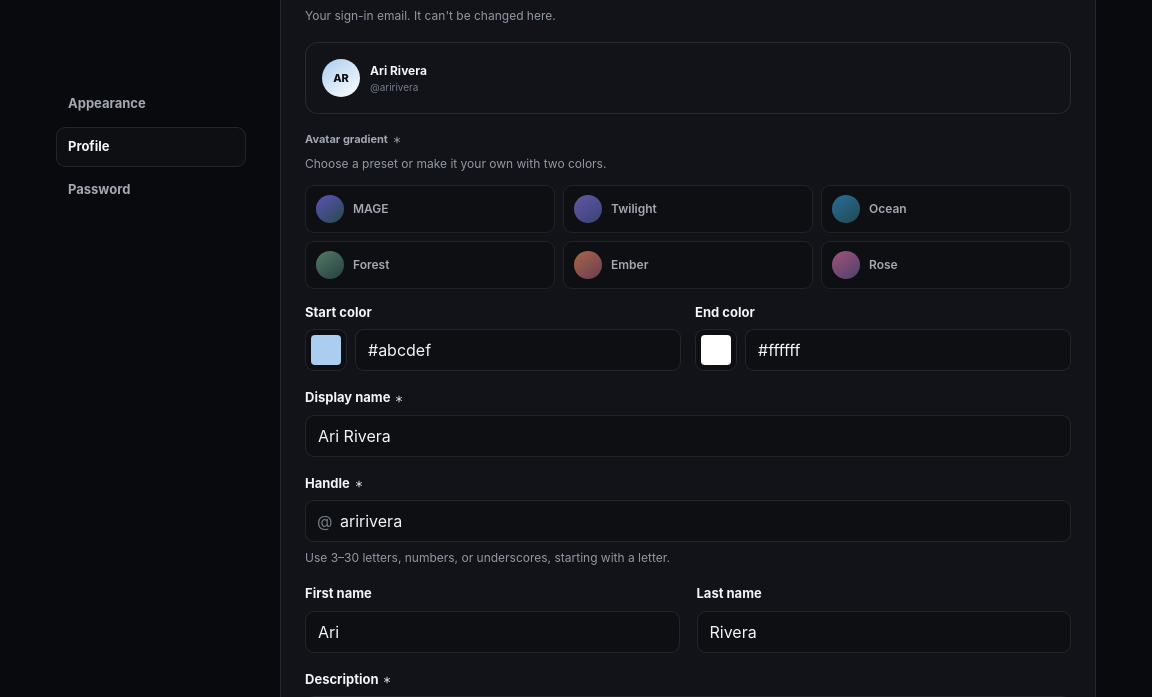
Test: Settings avatar gradients › loads saved custom colors and supports the native color selectors with live preview
(page scrolled)
Expected: the field labelled "Start color" holds "#abcdef", top-left (355, 329), bottom-right (681, 371)
Expected: the field labelled "End color" holds "#ffffff", top-left (745, 329), bottom-right (1071, 371)
Type "#112233" into the colour field named "Choose start color" at (326, 350), box top-left (305, 329), bottom-right (347, 371)
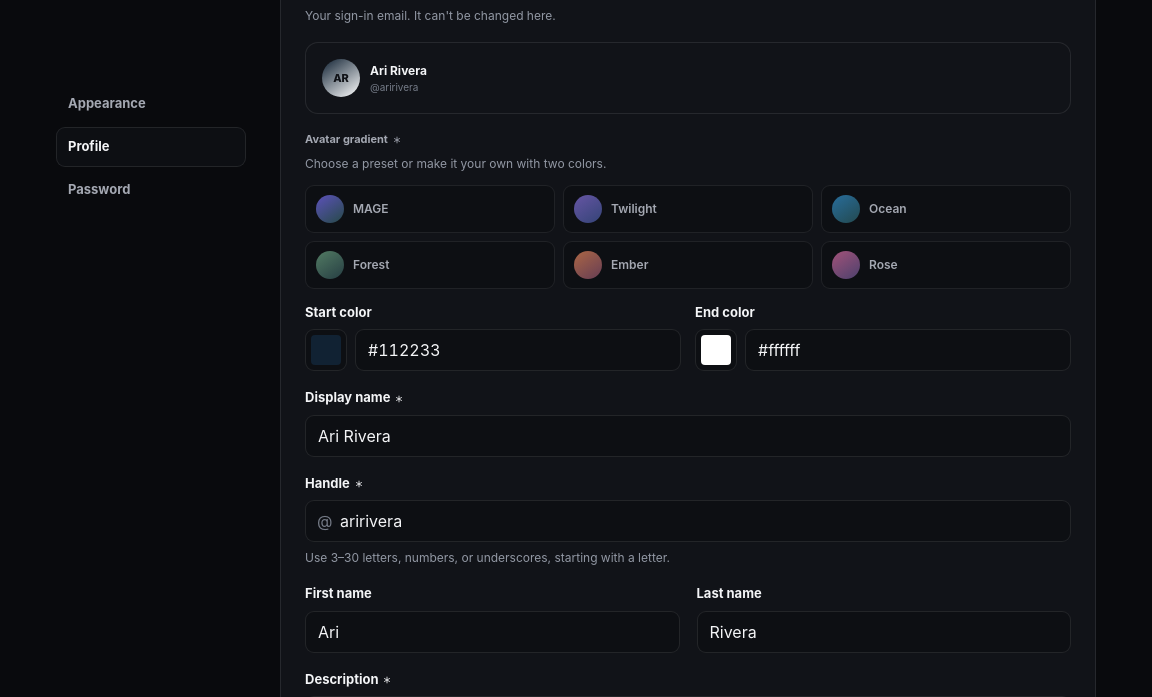
Type "#223344" into the colour field named "Choose end color" at (716, 350), box top-left (695, 329), bottom-right (737, 371)
(page scrolled)
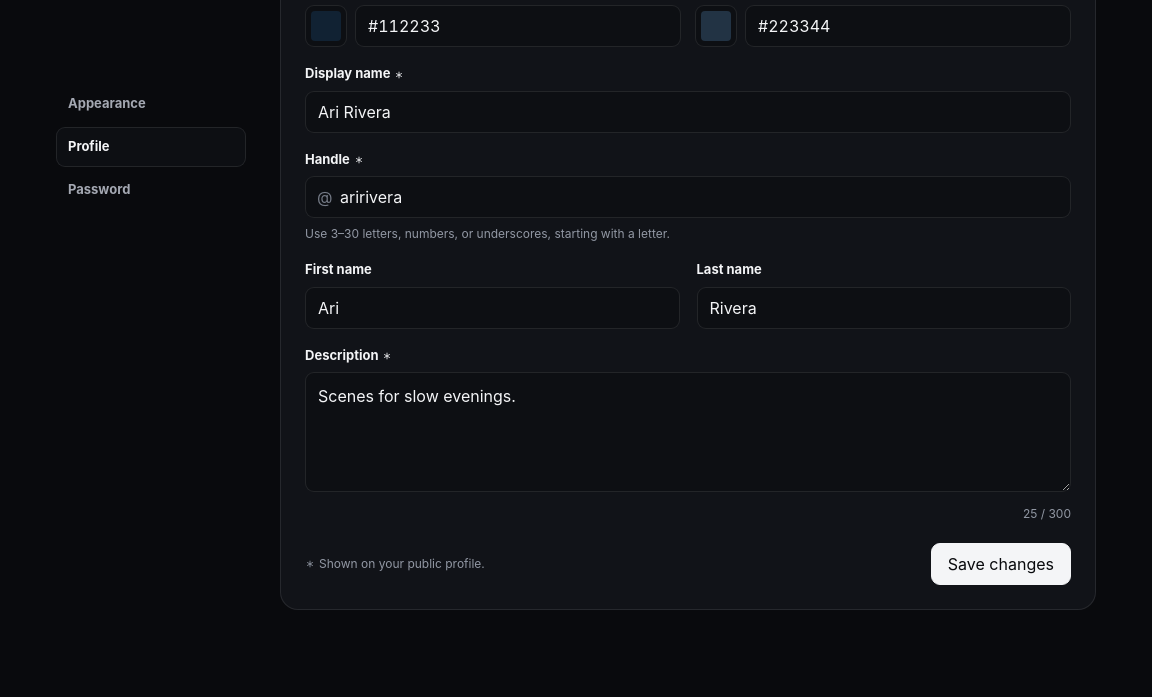
Now the field labelled "Start color" holds "#112233", box top-left (355, 5), bottom-right (681, 47)
Now the button "Save changes" is enabled, box top-left (931, 543), bottom-right (1071, 585)
Now the field labelled "End color" holds "#223344", box top-left (745, 5), bottom-right (1071, 47)
